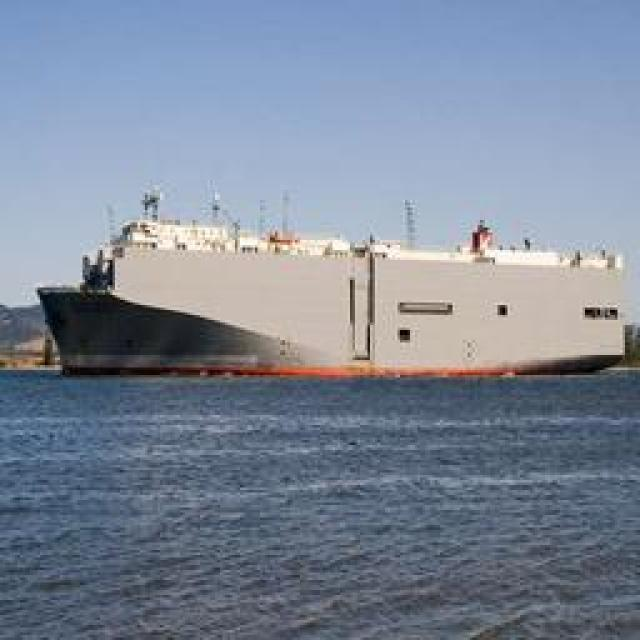CIV_Ship: (38, 215, 620, 383)
